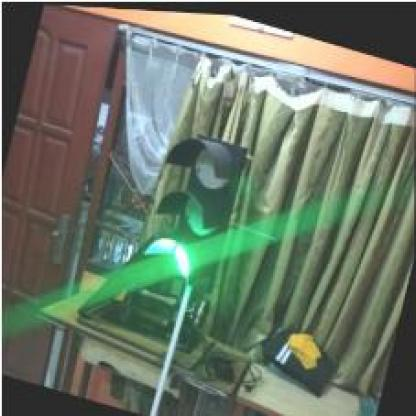green: (138, 125, 248, 293)
